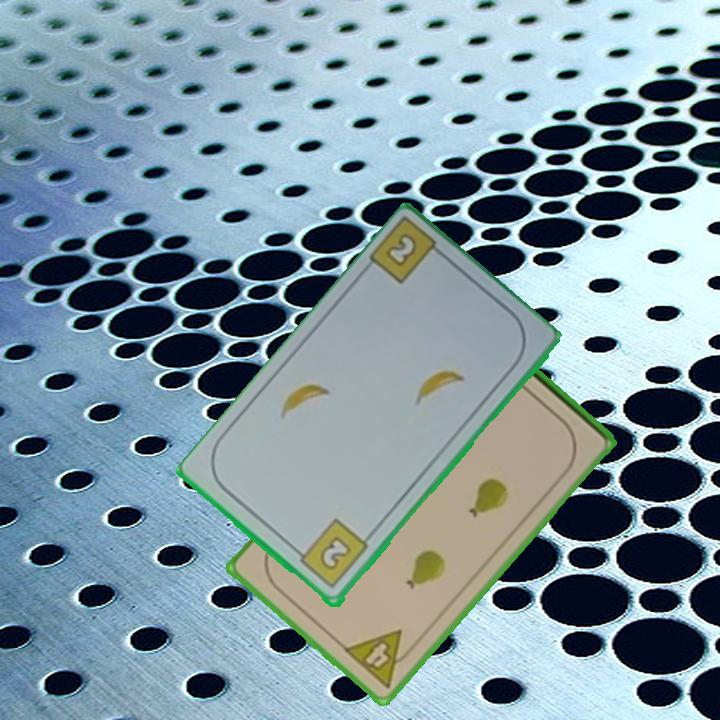2b: (291, 516, 372, 592), (365, 217, 451, 288)
4p: (339, 626, 420, 691)
